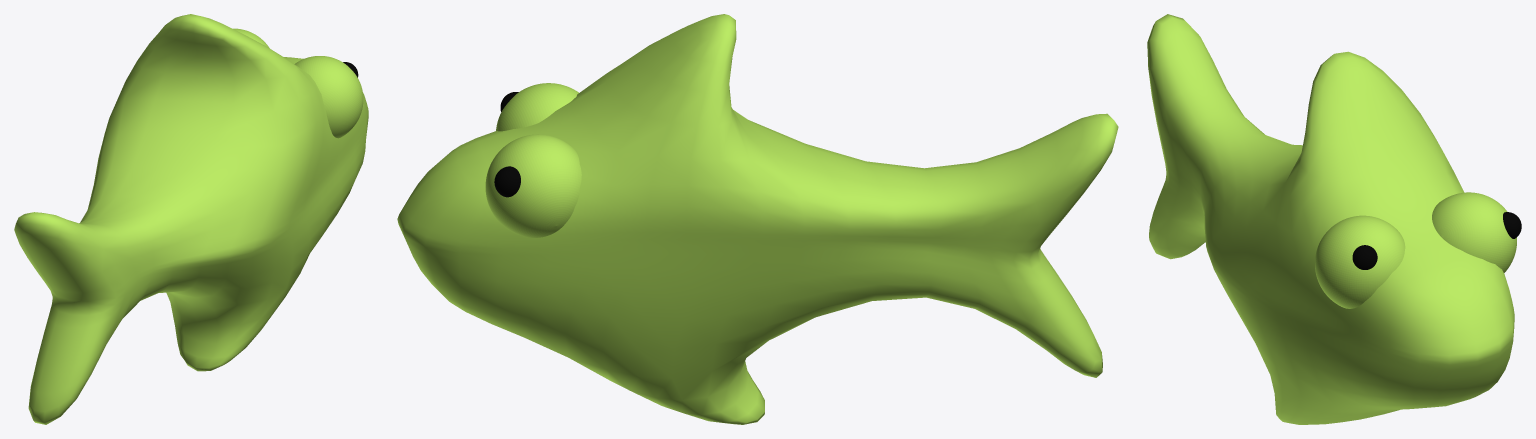
The model's file is goldfish.fbx.
The picture shows the model from 3 angles, left to right: view 1: azimuth 30°, elevation 25°; view 2: azimuth 150°, elevation 25°; view 3: azimuth 270°, elevation 25°; orthographic projection. The views are drawn at different scales.
Parts seen in each view (by area): view 1: Sphere.003; view 2: Sphere.003; view 3: Sphere.003.
Part boxes in pixels (<box>): Sphere.003: <box>14,14,368,424</box>; Sphere.003: <box>397,14,1118,424</box>; Sphere.003: <box>1147,14,1521,424</box>.
Bounding box in the file's own units: 190 × 132 × 120.
